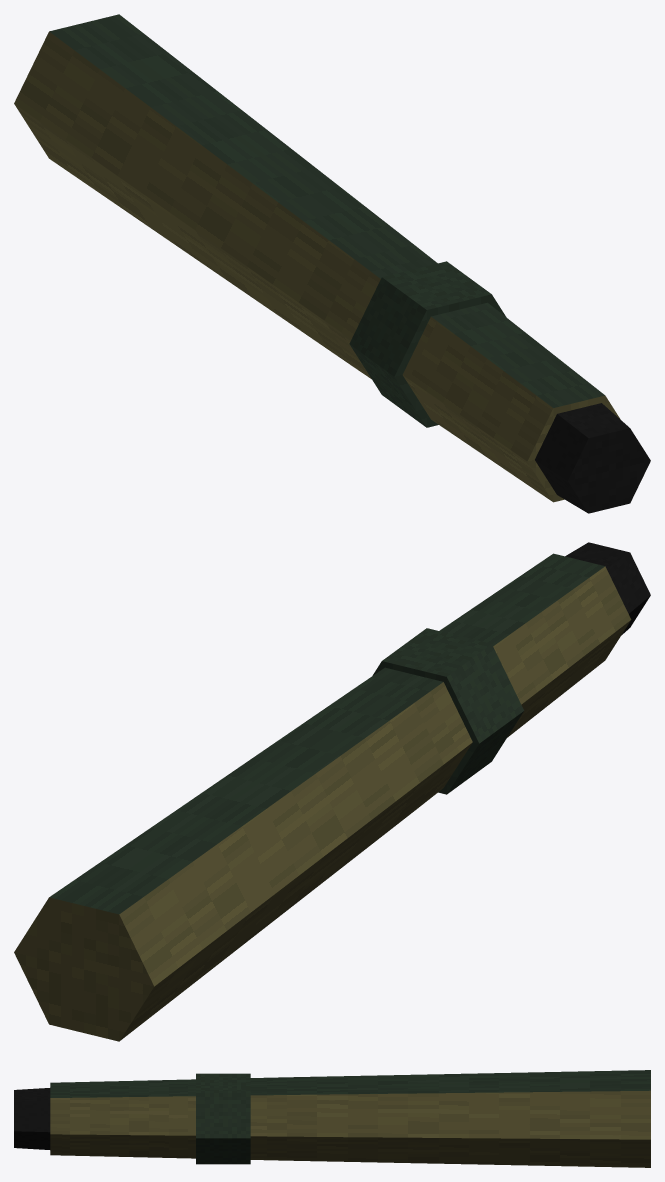
Rendered from forearm.glb.
The picture shows the model from 3 angles, top to bottom: view 1: azimuth 30°, elevation 25°; view 2: azimuth 150°, elevation 25°; view 3: azimuth 270°, elevation 25°; orthographic projection. The views are drawn at different scales.
Visible parts, largest first — view 1: forearm; view 2: forearm; view 3: forearm.
Part boxes in pixels (x1,y1,x2,y2): forearm: [14, 14, 650, 513]; forearm: [14, 542, 650, 1041]; forearm: [14, 1070, 650, 1167].
Size of the model in its own units: 0.108 by 0.0935 by 0.7.
1 material, 1 textured.
